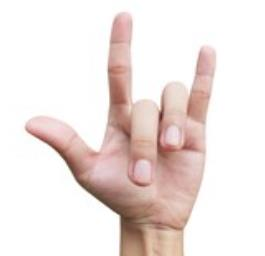back: (22, 9, 220, 222)
